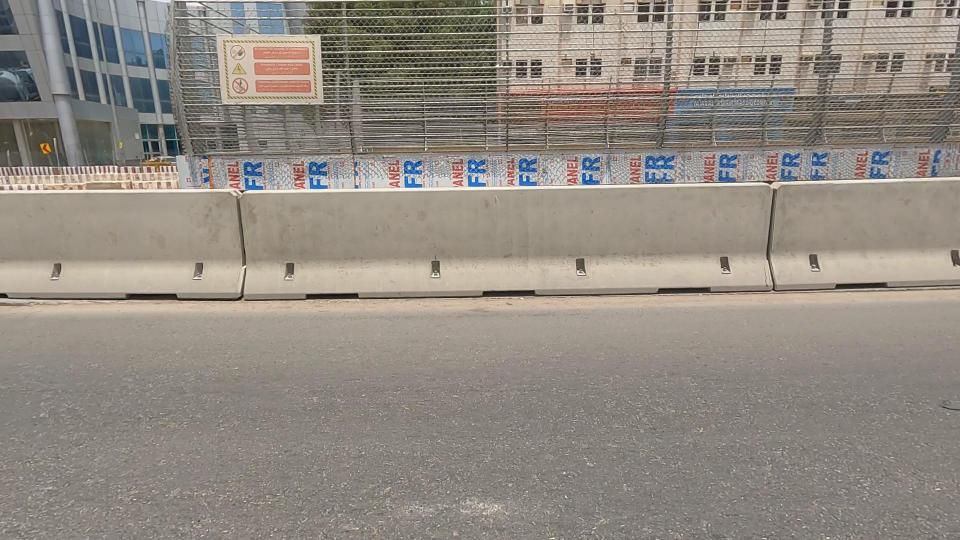CONSTRUCTION_ROAD: (253, 60, 908, 439), (46, 101, 488, 355), (638, 68, 960, 381)
